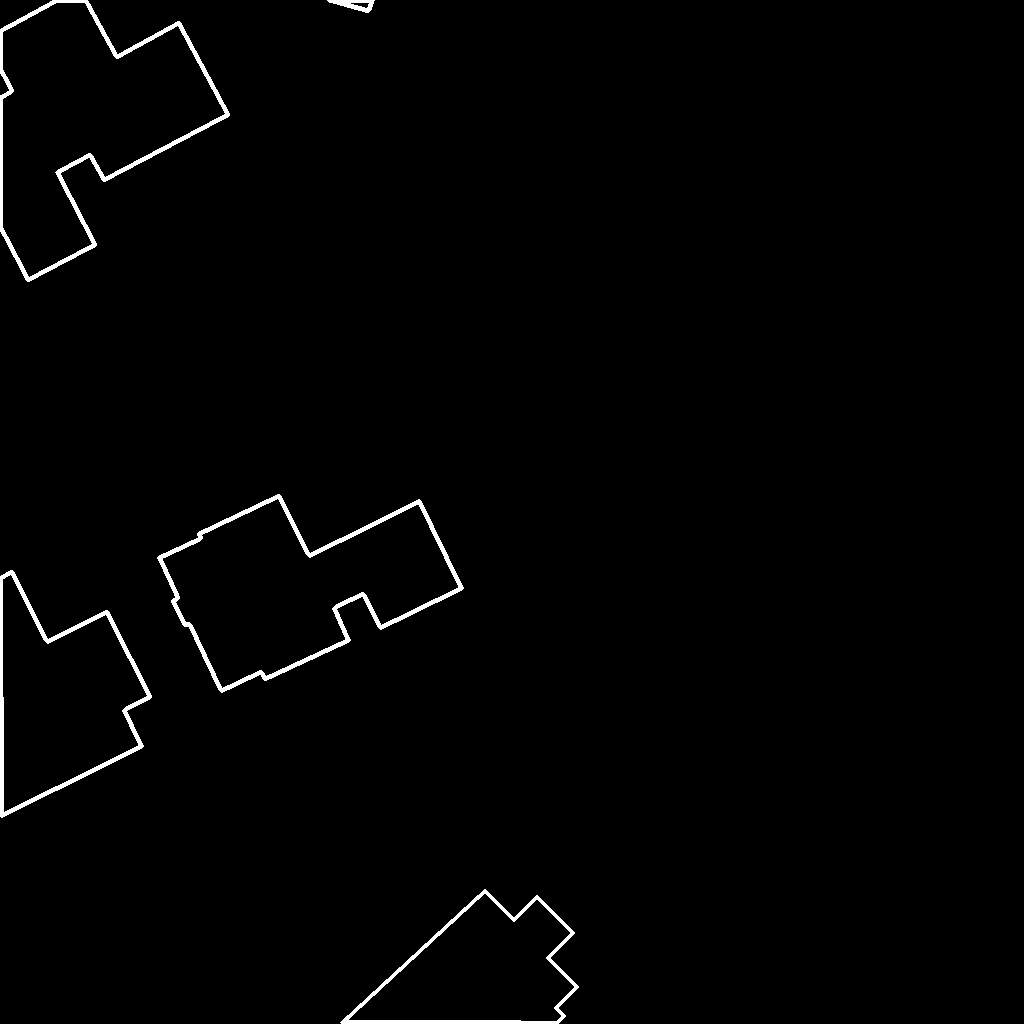building: (0, 0, 229, 281), (159, 496, 463, 692), (0, 572, 151, 817), (342, 891, 578, 1024), (328, 0, 374, 12)
